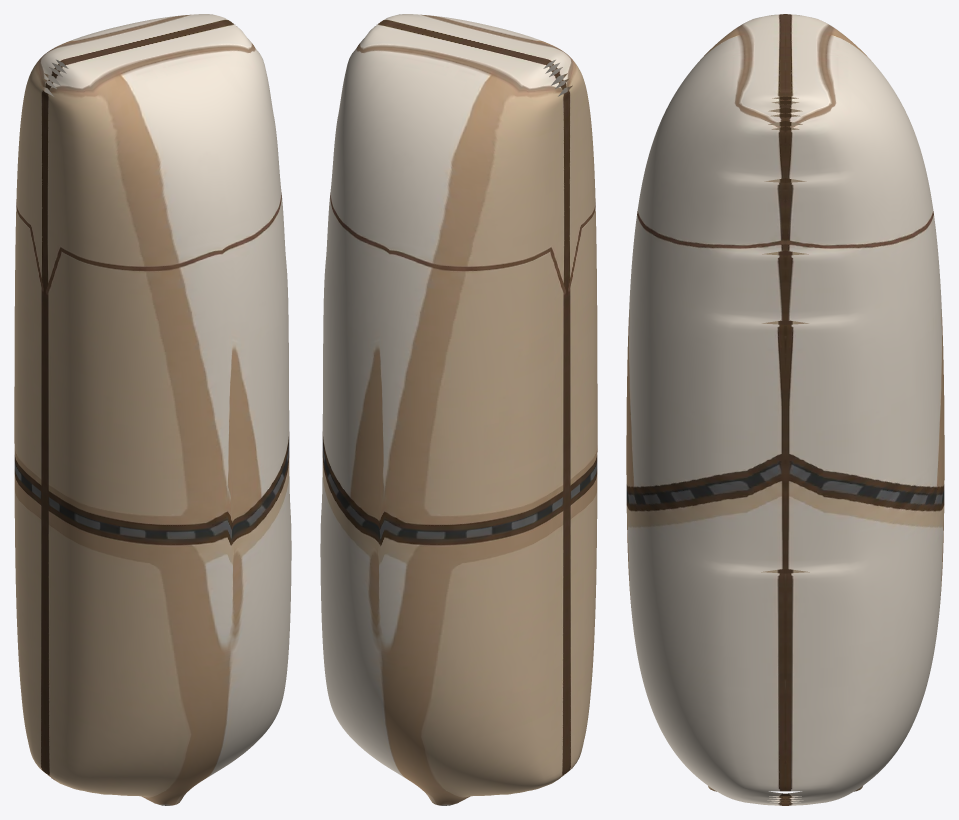
The model's file is west_wall_bay.glb.
3 views of the same model, side by side, from view 1: azimuth 30°, elevation 25°; view 2: azimuth 150°, elevation 25°; view 3: azimuth 270°, elevation 25° (orthographic).
Parts seen in each view (by area): view 1: west_wall_bay; view 2: west_wall_bay; view 3: west_wall_bay.
Boxes of the visible parts, bbox=[...] form: west_wall_bay: bbox=[14, 14, 291, 805]; west_wall_bay: bbox=[320, 14, 597, 805]; west_wall_bay: bbox=[626, 14, 944, 805].
Bounding box in the file's own units: 0.9654 × 3.11 × 1.22.
Materials: 1 (1 with a texture image).
